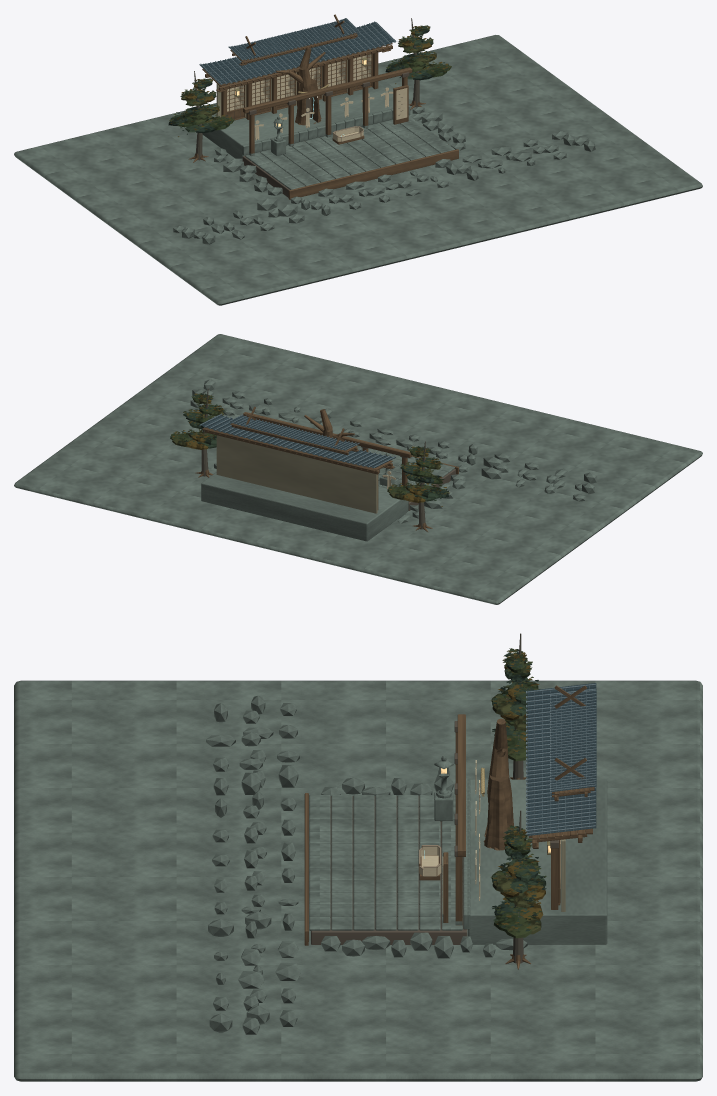
File: night05_honden.glb
The picture shows the model from 3 angles, top to bottom: view 1: azimuth 30°, elevation 25°; view 2: azimuth 150°, elevation 25°; view 3: azimuth 270°, elevation 25°; orthographic projection. The views are drawn at different scales.
Visible parts, largest first — view 1: Continuous_original_stone_ground, Stone_forecourt_worn_slabs, Grounded_natural_foreground_rocks, Rear_sanctuary_dais, Curved_original_roof, Approach_leaf_cedar_-1, Approach_leaf_cedar_1, Foundation_cedar_fascia, Curved_original_roof.001, Barrel_tiles_and_round_ends, Legacy_rear_stone_boundary, Hollow_tree_bark_roots_and_branches (+10 smaller); view 2: Continuous_original_stone_ground, Honden_plaster_backing, Rear_sanctuary_dais, Grounded_natural_foreground_rocks, Approach_leaf_cedar_-1, Approach_leaf_cedar_1, Curved_original_roof, Curved_original_roof.001, Barrel_tiles_and_round_ends, Front_sanctuary_cedar_beam, Barrel_tiles_and_round_ends.001, Stone_forecourt_worn_slabs (+3 smaller); view 3: Continuous_original_stone_ground, Stone_forecourt_worn_slabs, Rear_sanctuary_dais, Grounded_natural_foreground_rocks, Approach_leaf_cedar_1, Curved_original_roof, Foundation_cedar_fascia, Curved_original_roof.001, Barrel_tiles_and_round_ends, Approach_leaf_cedar_-1, Barrel_tiles_and_round_ends.001, Hollow_tree_bark_roots_and_branches (+5 smaller).
Part boxes in pixels (x1=…): Continuous_original_stone_ground: x1=14, y1=35, x2=702, y2=305; Stone_forecourt_worn_slabs: x1=245, y1=116, x2=454, y2=189; Grounded_natural_foreground_rocks: x1=173, y1=131, x2=595, y2=244; Rear_sanctuary_dais: x1=202, y1=83, x2=393, y2=158; Curved_original_roof: x1=199, y1=22, x2=396, y2=84; Approach_leaf_cedar_-1: x1=168, y1=71, x2=234, y2=162; Approach_leaf_cedar_1: x1=385, y1=18, x2=451, y2=109; Foundation_cedar_fascia: x1=242, y1=123, x2=458, y2=199; Curved_original_roof.001: x1=228, y1=18, x2=359, y2=59; Barrel_tiles_and_round_ends: x1=200, y1=21, x2=395, y2=84; Legacy_rear_stone_boundary: x1=242, y1=105, x2=410, y2=155; Hollow_tree_bark_roots_and_branches: x1=275, y1=47, x2=325, y2=125; Continuous_original_stone_ground: x1=14, y1=334, x2=702, y2=604; Honden_plaster_backing: x1=216, y1=435, x2=377, y2=513; Rear_sanctuary_dais: x1=201, y1=472, x2=408, y2=541; Grounded_natural_foreground_rocks: x1=190, y1=379, x2=596, y2=501; Approach_leaf_cedar_-1: x1=387, y1=441, x2=449, y2=531; Approach_leaf_cedar_1: x1=170, y1=388, x2=226, y2=477; Curved_original_roof: x1=199, y1=414, x2=395, y2=468; Curved_original_roof.001: x1=228, y1=415, x2=358, y2=450; Barrel_tiles_and_round_ends: x1=200, y1=413, x2=395, y2=467; Front_sanctuary_cedar_beam: x1=243, y1=412, x2=412, y2=457; Barrel_tiles_and_round_ends.001: x1=229, y1=414, x2=359, y2=449; Stone_forecourt_worn_slabs: x1=356, y1=445, x2=454, y2=486; Continuous_original_stone_ground: x1=14, y1=680, x2=702, y2=1081; Stone_forecourt_worn_slabs: x1=309, y1=795, x2=462, y2=930; Rear_sanctuary_dais: x1=468, y1=779, x2=607, y2=944; Grounded_natural_foreground_rocks: x1=206, y1=695, x2=301, y2=1034; Approach_leaf_cedar_1: x1=490, y1=810, x2=546, y2=969; Curved_original_roof: x1=527, y1=683, x2=596, y2=835; Foundation_cedar_fascia: x1=304, y1=793, x2=467, y2=945; Curved_original_roof.001: x1=551, y1=689, x2=596, y2=791; Barrel_tiles_and_round_ends: x1=526, y1=683, x2=595, y2=834; Approach_leaf_cedar_-1: x1=490, y1=633, x2=539, y2=779; Barrel_tiles_and_round_ends.001: x1=550, y1=690, x2=596, y2=791; Hollow_tree_bark_roots_and_branches: x1=483, y1=718, x2=513, y2=850.
Size of the model in its own units: 34 by 6.55 by 25.
24 materials, 14 textured.
